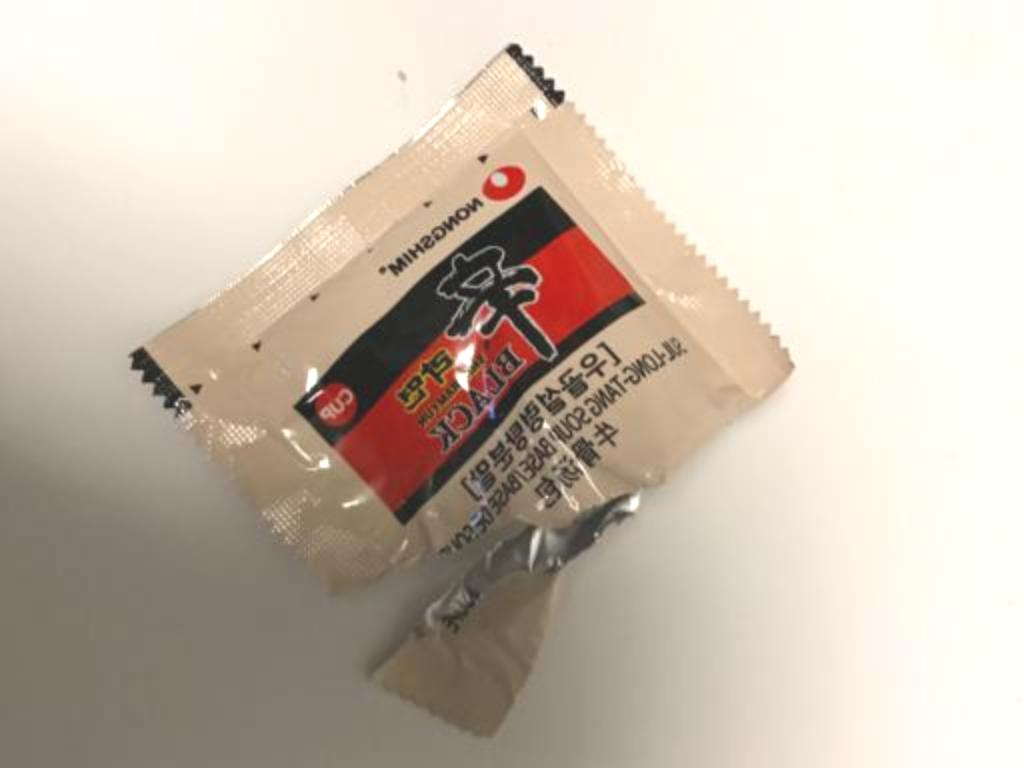garbage: (129, 24, 801, 764)
